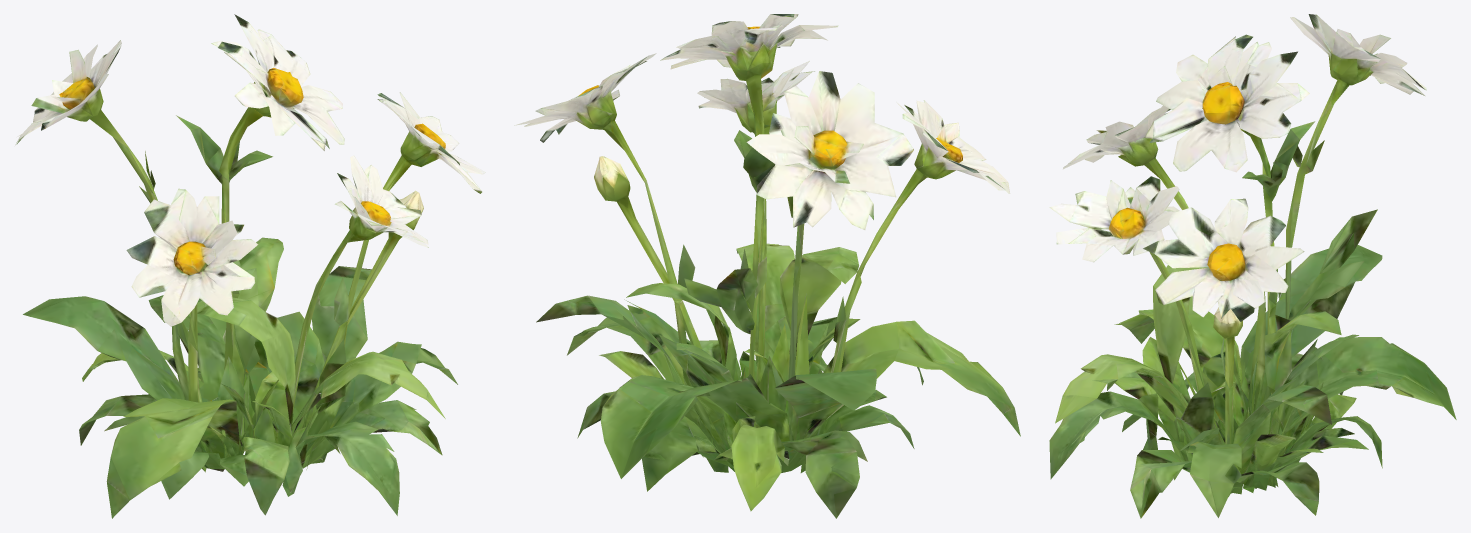
The model's file is daisy.glb.
3 renders of one model, left to right at view 1: azimuth 30°, elevation 25°; view 2: azimuth 150°, elevation 25°; view 3: azimuth 270°, elevation 25°, orthographic. The views are drawn at different scales.
Parts seen in each view (by area): view 1: Mesh_0; view 2: Mesh_0; view 3: Mesh_0.
Part boxes in pixels (<box>): Mesh_0: <box>15,14,485,518</box>; Mesh_0: <box>514,14,1020,518</box>; Mesh_0: <box>1049,14,1456,518</box>.
Size of the model in its own units: 0.3403 by 0.34 by 0.3018.
Materials: 1 (1 with a texture image).
